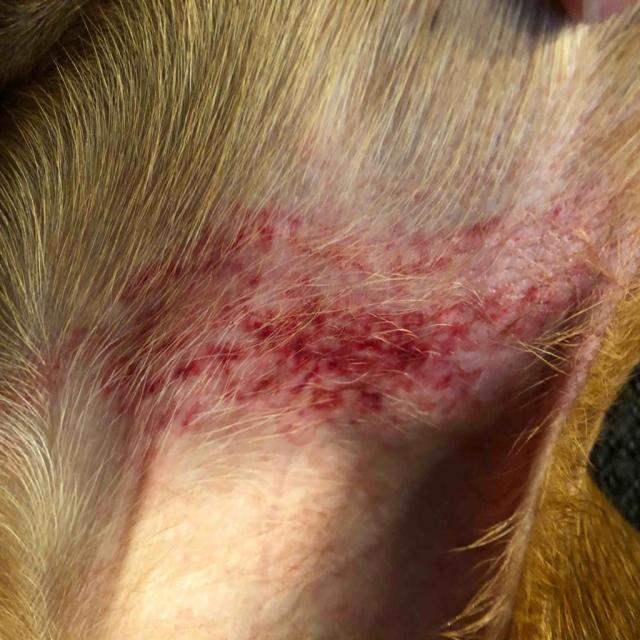di ung bo chet: (42, 187, 630, 492)
